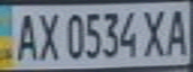0: (63, 9, 84, 60)
3: (100, 8, 121, 59)
4: (118, 7, 142, 58)
5: (81, 9, 103, 60)
A: (9, 8, 39, 62), (163, 5, 193, 57)
X: (139, 6, 172, 58), (33, 8, 63, 62)
